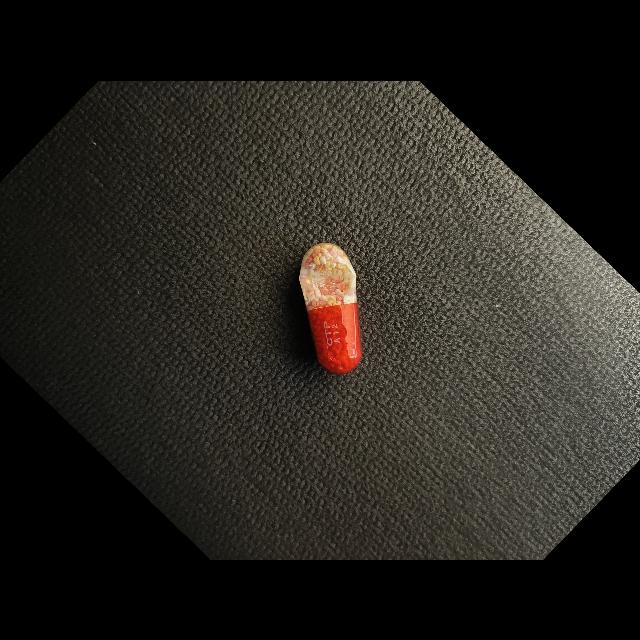Defective Capsule: (299, 242, 362, 373)
